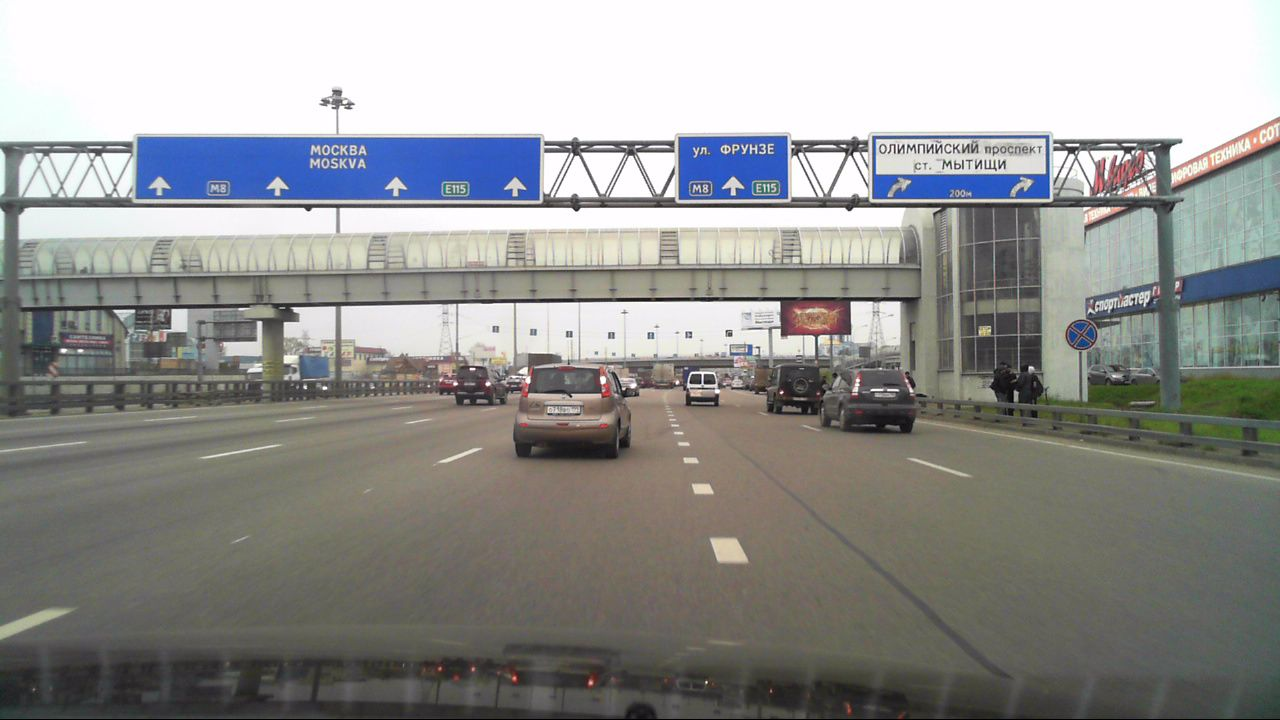No Parking: (1063, 319, 1097, 351)
